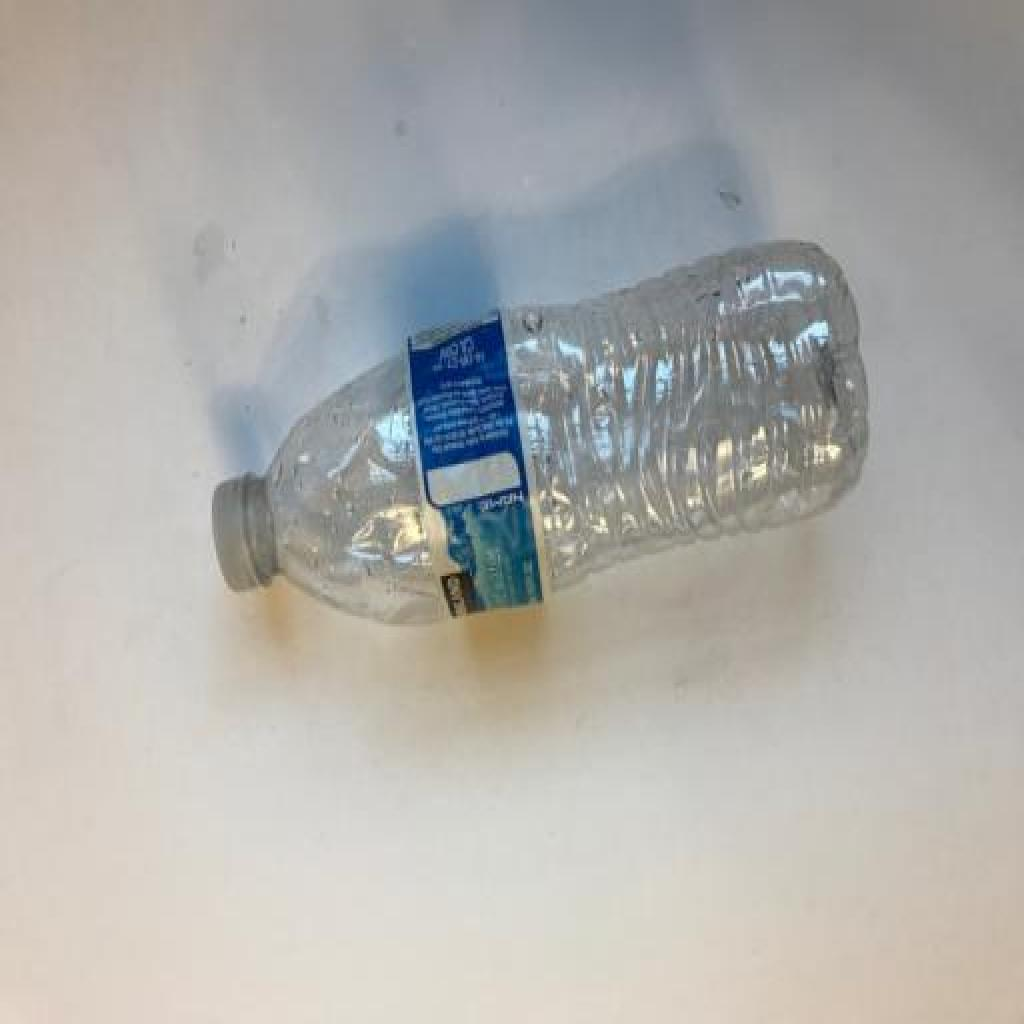plastic: (205, 201, 891, 626)
